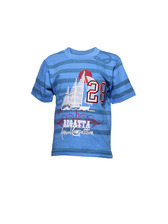clothoes: (32, 46, 137, 164)
